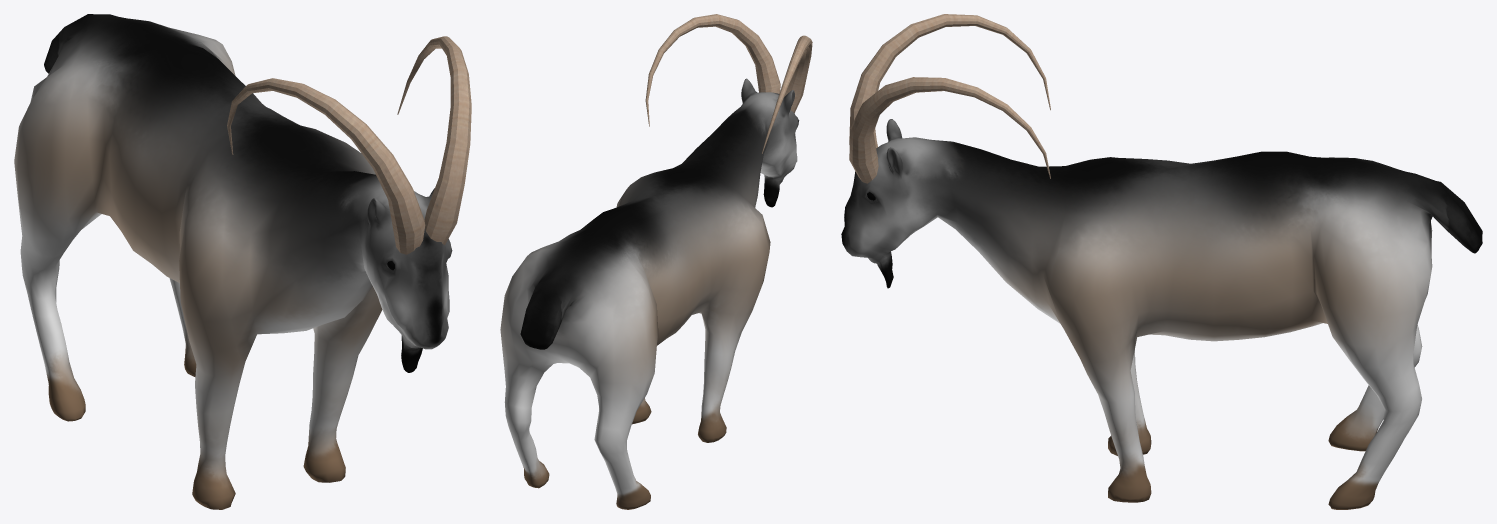
File: goat_static.fbx
The picture shows the model from 3 angles, left to right: view 1: azimuth 30°, elevation 25°; view 2: azimuth 150°, elevation 25°; view 3: azimuth 270°, elevation 25°; orthographic projection. The views are drawn at different scales.
Parts seen in each view (by area): view 1: goatMain; view 2: goatMain; view 3: goatMain.
Boxes of the visible parts, bbox=[...] form: goatMain: bbox=[14, 14, 471, 509]; goatMain: bbox=[500, 14, 812, 509]; goatMain: bbox=[841, 14, 1482, 509].
Bounding box in the file's own units: 32.38 × 72.45 × 97.96.
Materials: 1 (1 with a texture image).
